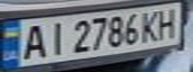2: (66, 16, 93, 54)
6: (121, 11, 145, 46)
7: (87, 15, 109, 52)
8: (106, 12, 127, 48)
A: (15, 21, 51, 61)
H: (154, 6, 181, 39)
I: (42, 19, 69, 57)
K: (136, 8, 163, 43)
